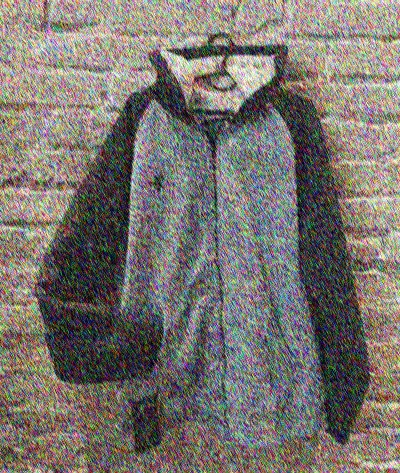Hoodie: (36, 30, 356, 461)
